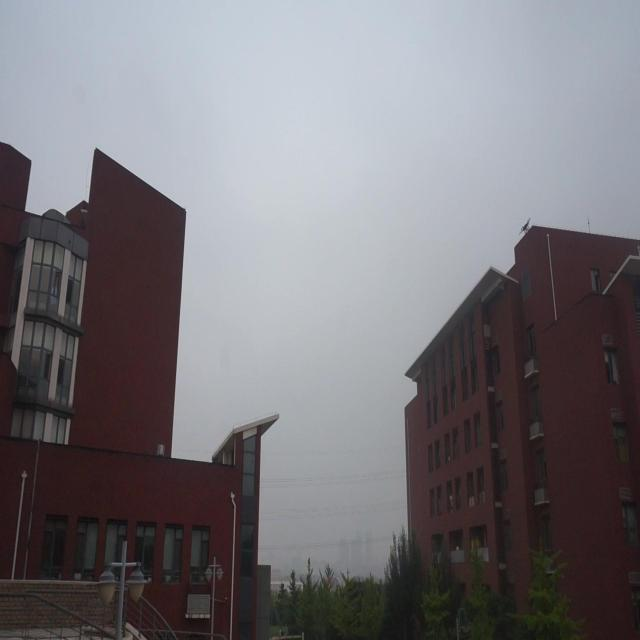drone: (517, 215, 532, 237)
